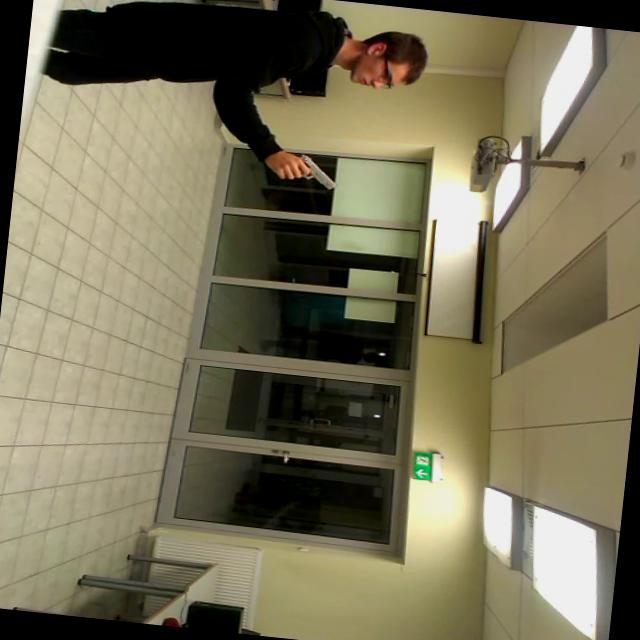handgun: (274, 148, 344, 194)
